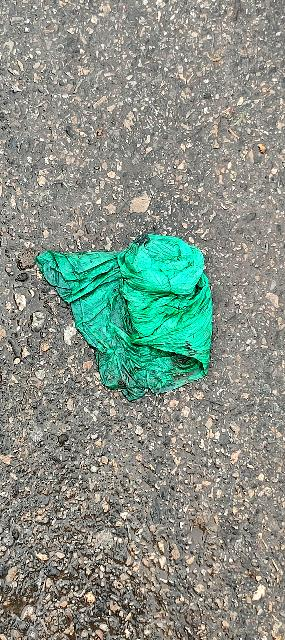polythene: (30, 226, 229, 409)
